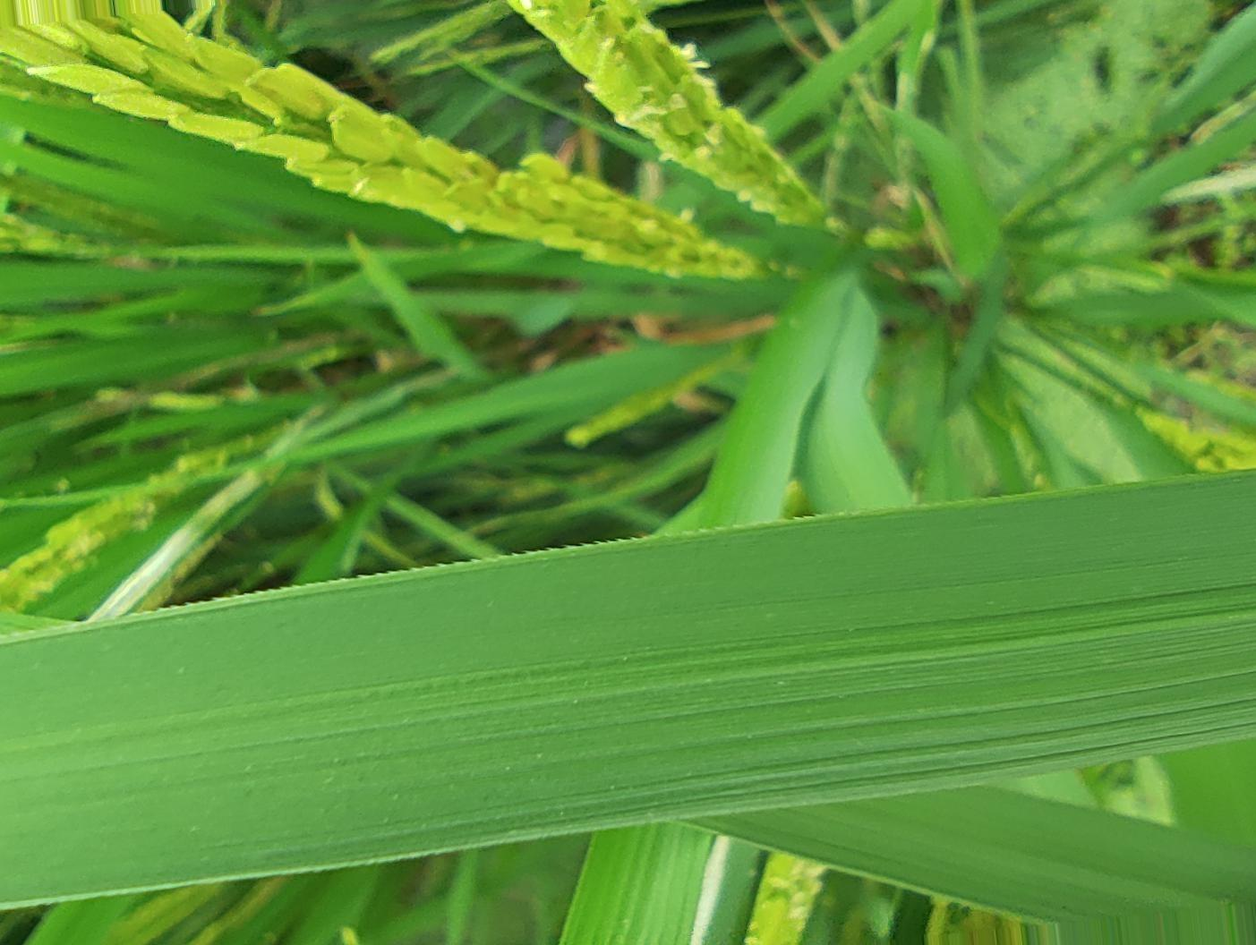Healthy: (0, 476, 1255, 910)
